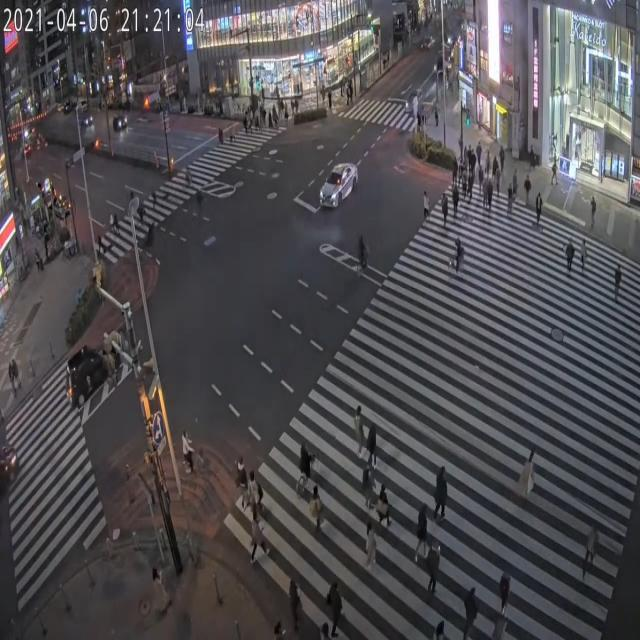bicycle: (178, 425, 209, 482), (446, 233, 474, 281), (295, 434, 318, 488), (352, 230, 374, 280)
humans: (249, 500, 268, 577), (286, 572, 306, 634), (521, 440, 536, 514), (585, 518, 602, 582), (327, 569, 344, 633), (311, 479, 326, 543), (248, 463, 264, 522), (361, 453, 377, 511), (463, 582, 478, 640), (363, 522, 378, 578), (352, 403, 365, 462), (234, 461, 250, 508), (430, 534, 441, 600), (434, 462, 446, 522), (416, 502, 426, 572), (367, 424, 381, 471), (377, 485, 390, 532), (498, 576, 511, 617), (438, 190, 450, 230), (587, 193, 599, 230), (613, 261, 622, 310), (421, 184, 431, 226), (506, 175, 514, 220), (566, 237, 574, 279), (580, 232, 587, 280), (535, 189, 543, 231), (524, 173, 532, 211), (452, 181, 459, 221), (461, 164, 468, 202), (468, 167, 474, 201), (487, 178, 493, 210), (481, 178, 487, 210), (496, 167, 500, 202)
